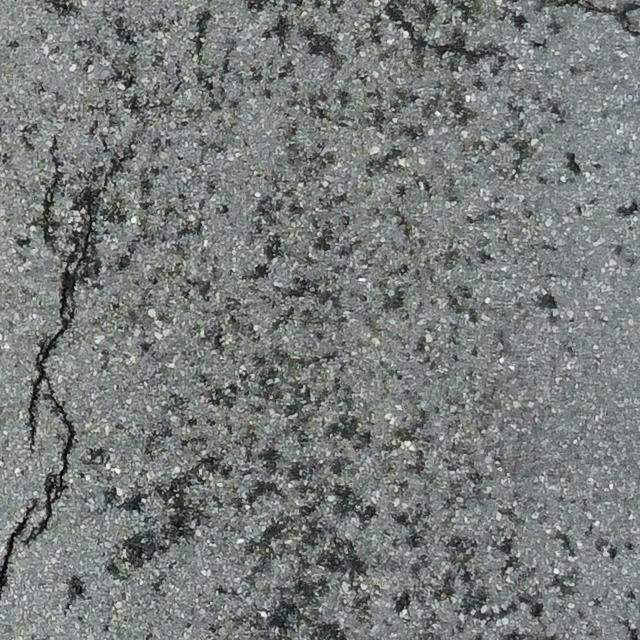LongitudinalCrack: (1, 134, 109, 594)
